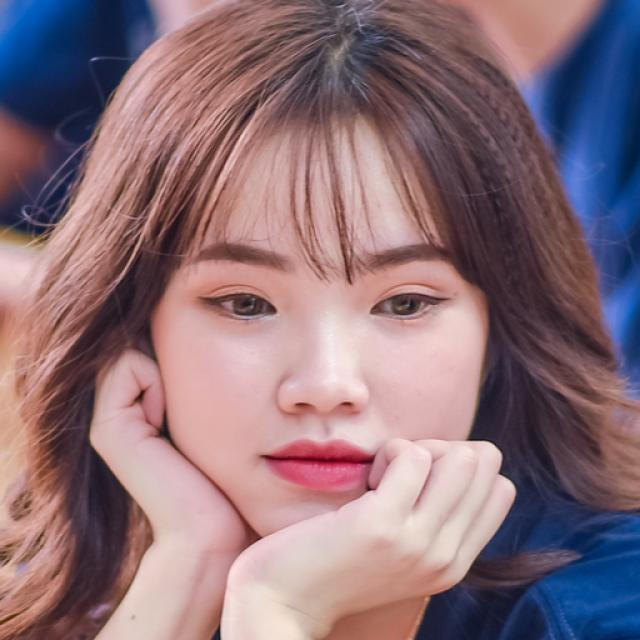neutral: (154, 117, 488, 555)
